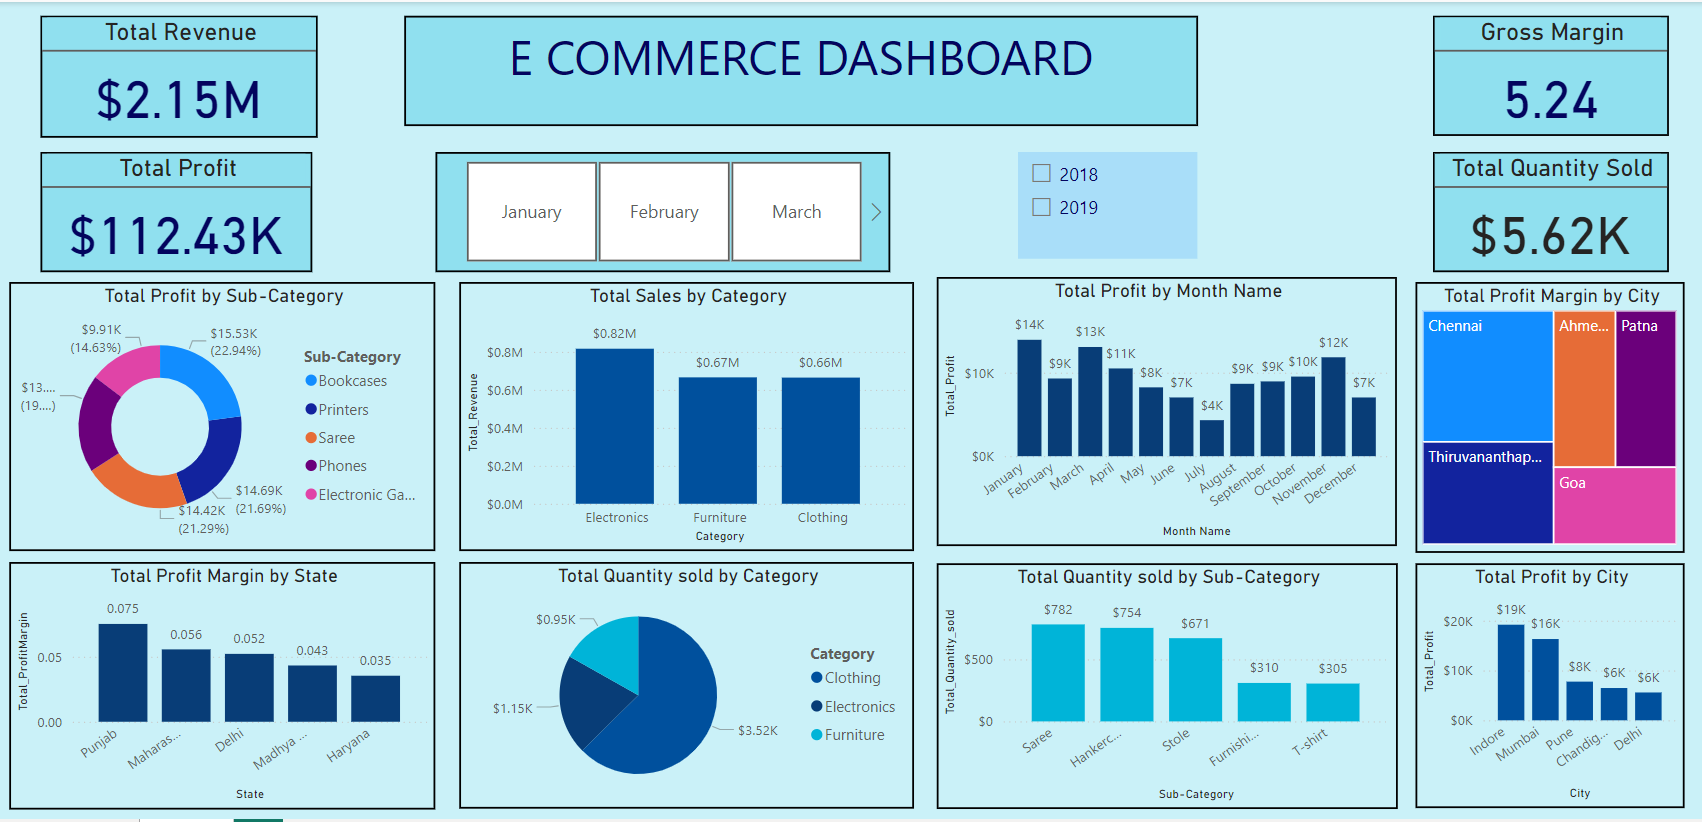

This screenshot's page, from the dashboard's own definition file:
{"tool":"powerbi","page":{"name":"Page 1","canvas":[1520,730],"ordinal":0},"visuals":[{"type":"card","title":"Total Revenue","fields":{"Values":["Order Details.Total_Revenue"]},"box":[37.8,12.2,247.5,108.5],"z":0},{"type":"card","title":"Total Profit","fields":{"Values":["Order Details.Total_Profit"]},"box":[37.8,134.1,242.6,107.3],"z":1000},{"type":"card","title":"Total Quantity Sold","fields":{"Values":["Order Details.Total_Quantity_sold"]},"box":[1279.4,134,210,107.4],"z":2000},{"type":"card","title":"Gross Margin","fields":{"Values":["Order Details.Gross_Margin"]},"box":[1279.4,12.1,210,107.4],"z":3000},{"type":"columnChart","title":"Total Sales by Category","fields":{"Category":["Order Details.Category"],"Y":["Order Details.Total_Revenue"]},"box":[411.6,249.9,405.6,240.2],"z":4000},{"type":"columnChart","title":"Total Profit by Month Name","fields":{"Category":["List of Orders.Month Name"],"Y":["Order Details.Total_Profit"]},"box":[837.7,245,410.4,240.2],"z":5000},{"type":"clusteredColumnChart","title":"Total Profit Margin by State","fields":{"Category":["List of Orders.State"],"Y":["Order Details.Total_ProfitMargin"]},"box":[9.7,499.7,380.2,220.9],"z":6000},{"type":"clusteredColumnChart","title":"Total Profit by City","fields":{"Y":["Order Details.Total_Profit"],"Category":["List of Orders.City"]},"box":[1263.7,500.9,240.2,218.5],"z":7000},{"type":"donutChart","title":"Total Profit by Sub-Category","fields":{"Y":["Order Details.Total_Profit"],"Category":["Order Details.Sub-Category"]},"box":[9.7,249.9,380.2,240.2],"z":8000},{"type":"treemap","title":"Total Profit Margin by City","fields":{"Values":["Order Details.Total_ProfitMargin"],"Group":["List of Orders.City"]},"box":[1263.7,249.9,240.2,241.4],"z":9000},{"type":"pieChart","title":"Total Quantity sold by Category","fields":{"Y":["Order Details.Total_Quantity_sold"],"Category":["Order Details.Category"]},"box":[411.6,499.7,405.6,219.7],"z":10000},{"type":"slicer","fields":{"Values":["List of Orders.Month Name"]},"box":[390.1,134.1,406,107.3],"z":11000},{"type":"clusteredColumnChart","title":"Total Quantity sold by Sub-Category","fields":{"Y":["Order Details.Total_Quantity_sold"],"Category":["Order Details.Sub-Category"]},"box":[837.5,501.1,410.8,219.4],"z":12000},{"type":"textbox","box":[362.1,12.2,708.3,98.7],"z":13000},{"type":"slicer","fields":{"Values":["List of Orders.Year"]},"box":[910,133.9,160.2,95.3],"z":14000}]}

Visuals, with their boxes in screenshot pixels (x1, y1, x2, y2), scaled from the page's 1520x730 canvas onto the 1702x822 screenshot:
"Total Revenue" card: BBox(42, 14, 319, 136)
"Total Profit" card: BBox(42, 151, 314, 272)
"Total Quantity Sold" card: BBox(1433, 151, 1668, 272)
"Gross Margin" card: BBox(1433, 14, 1668, 135)
"Total Sales by Category" columnChart: BBox(461, 281, 915, 552)
"Total Profit by Month Name" columnChart: BBox(938, 276, 1398, 546)
"Total Profit Margin by State" clusteredColumnChart: BBox(11, 563, 437, 811)
"Total Profit by City" clusteredColumnChart: BBox(1415, 564, 1684, 810)
"Total Profit by Sub-Category" donutChart: BBox(11, 281, 437, 552)
"Total Profit Margin by City" treemap: BBox(1415, 281, 1684, 553)
"Total Quantity sold by Category" pieChart: BBox(461, 563, 915, 810)
slicer - List of Orders.Month Name: BBox(437, 151, 891, 272)
"Total Quantity sold by Sub-Category" clusteredColumnChart: BBox(938, 564, 1398, 811)
textbox: BBox(405, 14, 1199, 125)
slicer - List of Orders.Year: BBox(1019, 151, 1198, 258)
